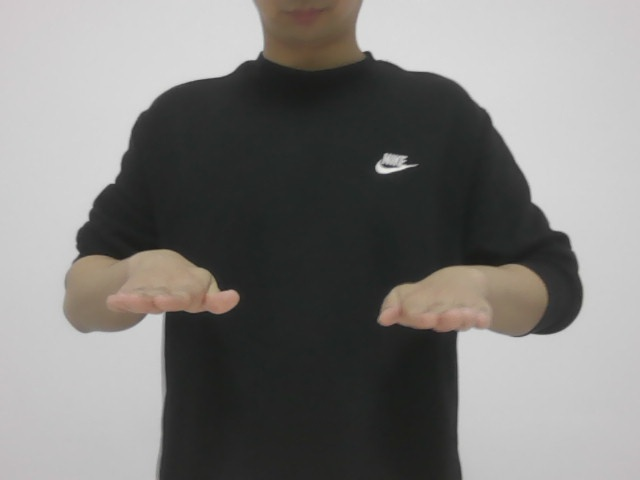flat: (117, 226, 500, 350)
